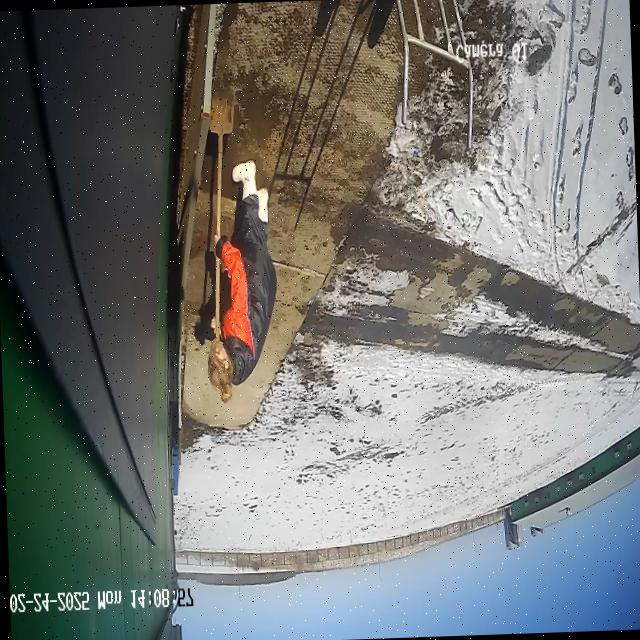Red uniform: (197, 156, 282, 405)
